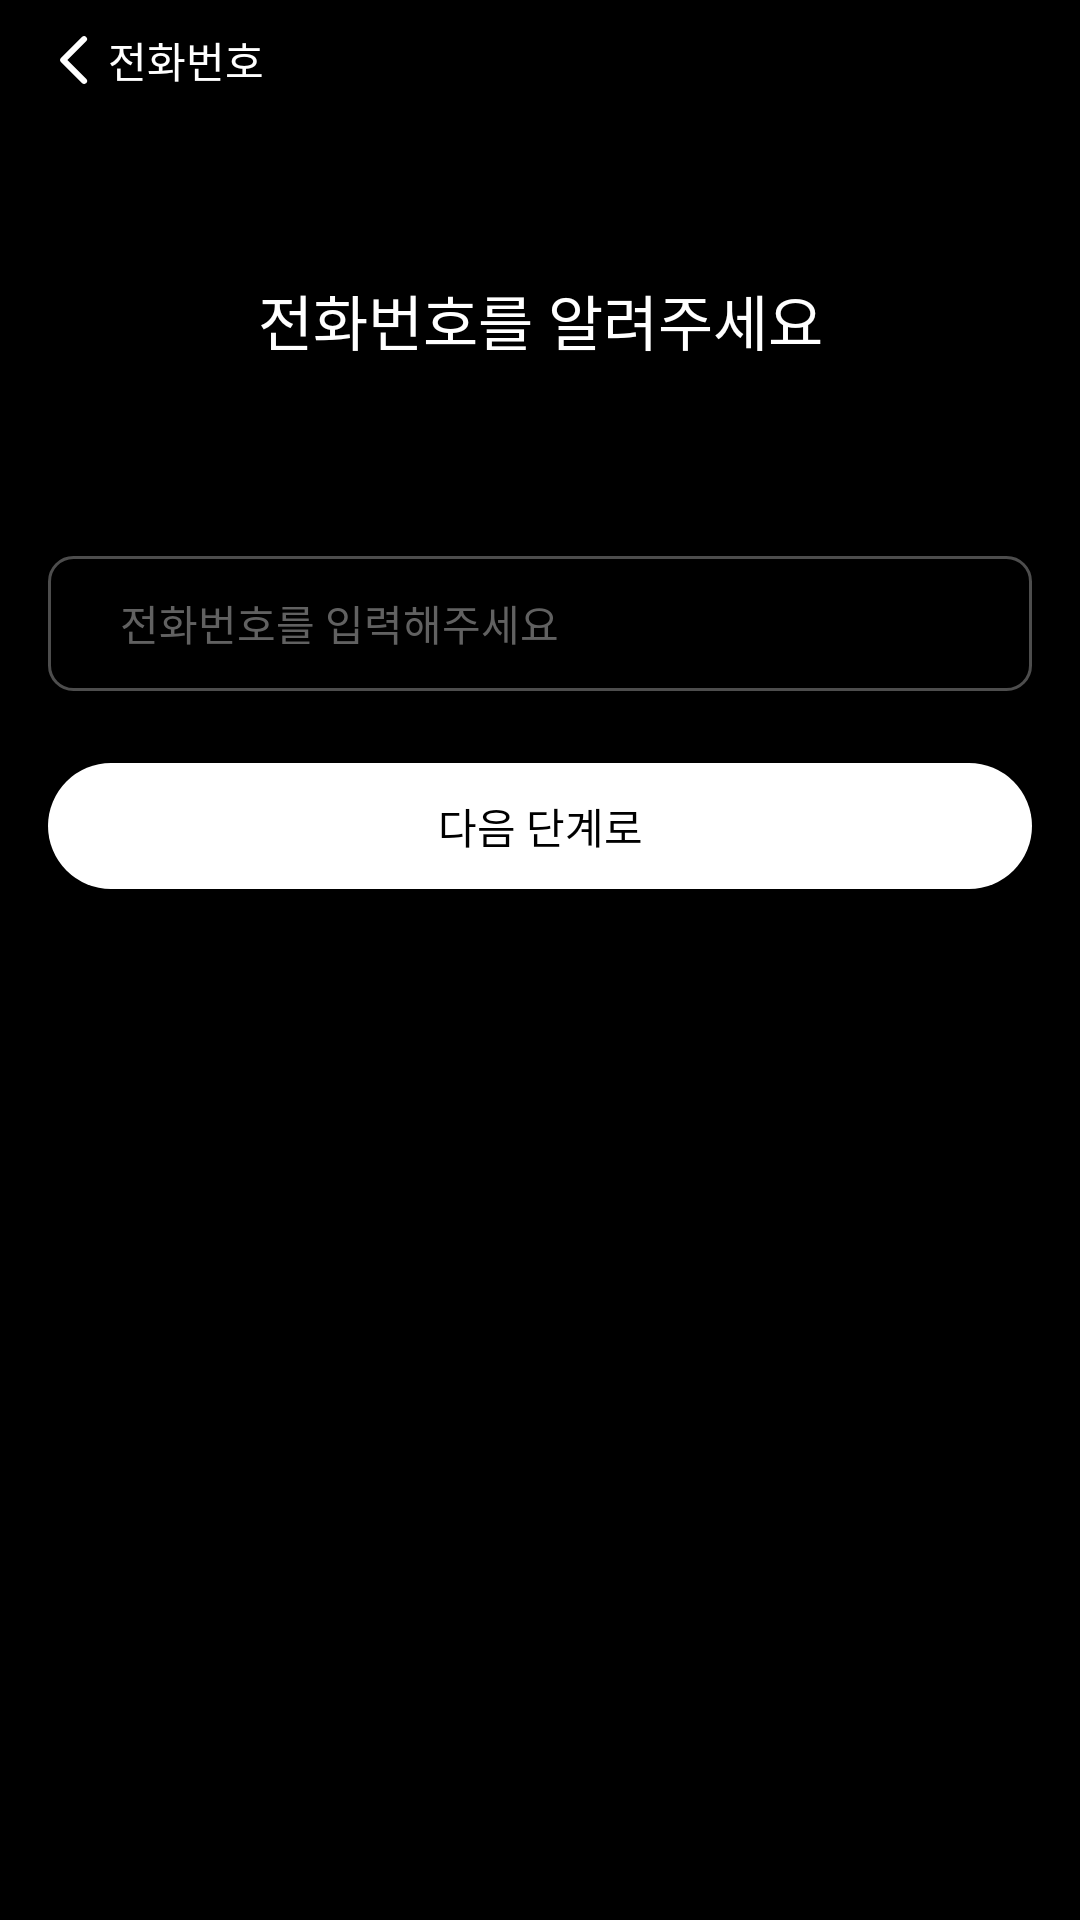

Icon bounding boxes for this 1080w x 1920h phone screenshot, format (x1, y1, x2, y2):
back: (60, 36, 88, 84)
